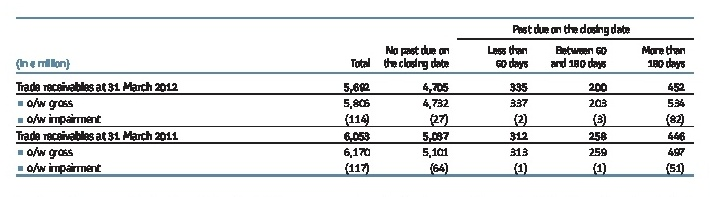table: (0, 0, 710, 197)
